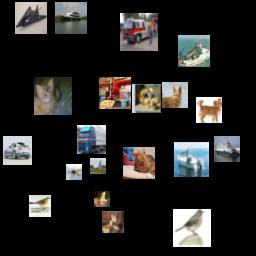airplane: (99, 77, 131, 109), (15, 2, 47, 34), (66, 164, 82, 180), (90, 158, 106, 174)
automobile: (3, 136, 32, 165)
bird: (173, 209, 211, 247), (29, 195, 51, 217)
cat: (34, 77, 72, 115), (102, 211, 124, 233)
dog: (123, 147, 155, 179), (132, 84, 161, 113), (162, 82, 188, 108), (196, 97, 222, 123)
frog: (94, 191, 110, 207)
ship: (174, 142, 209, 177), (178, 35, 210, 67), (55, 2, 87, 34), (214, 136, 240, 162)
truck: (120, 13, 158, 51), (77, 125, 106, 154)
